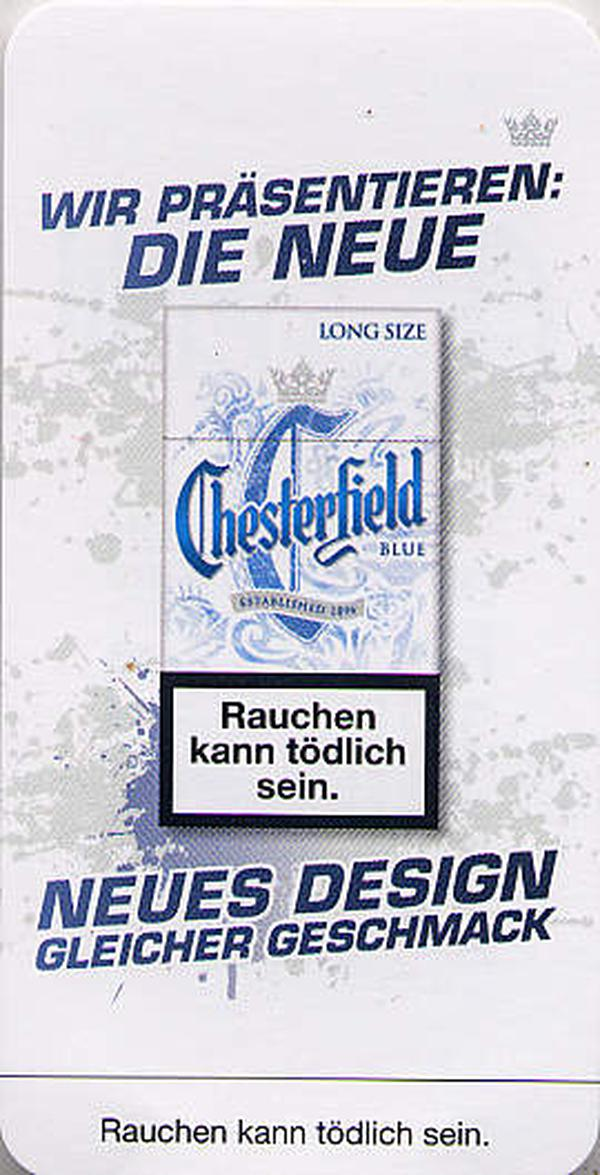chesterfield_blue: (168, 308, 438, 828)
